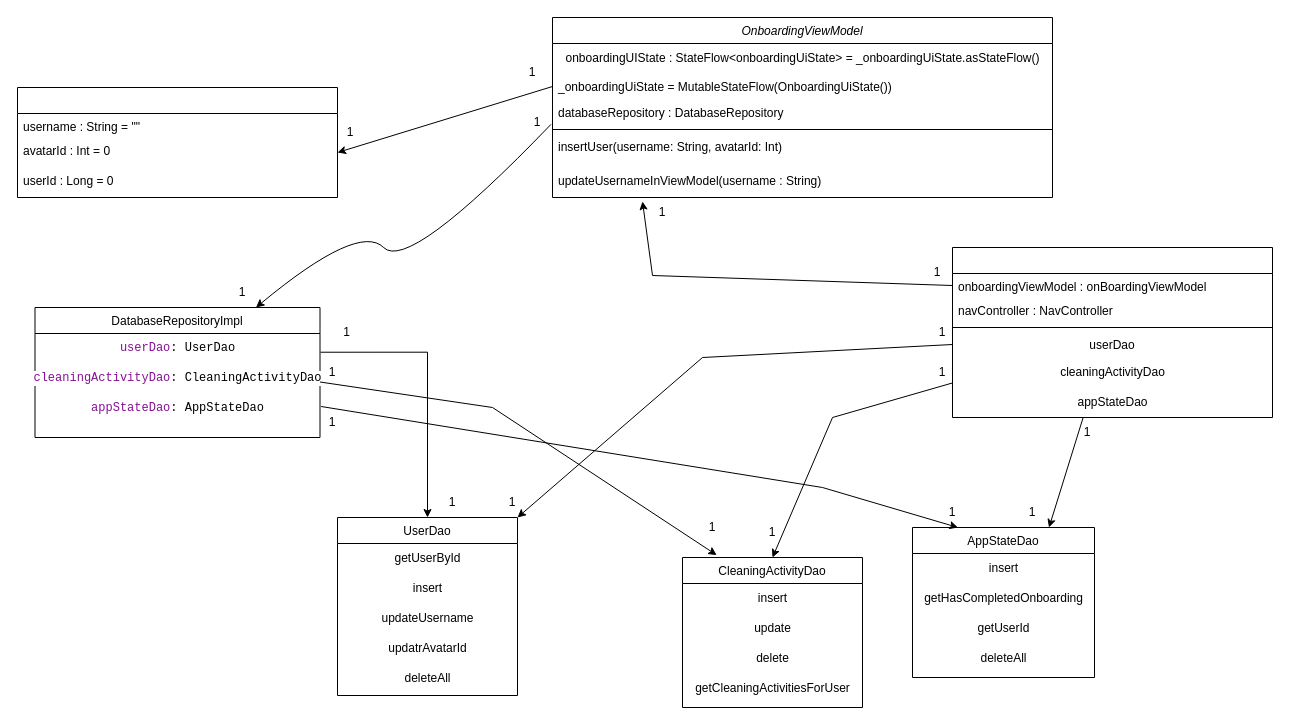
The diagram is 1290 pixels wide and 725 high, and some of its shapes have lost their labels. Each missing label, with the box of its shape:
HavfallDatabase: (952, 246, 1272, 418)
OnboardingUIState: (16, 86, 338, 198)
